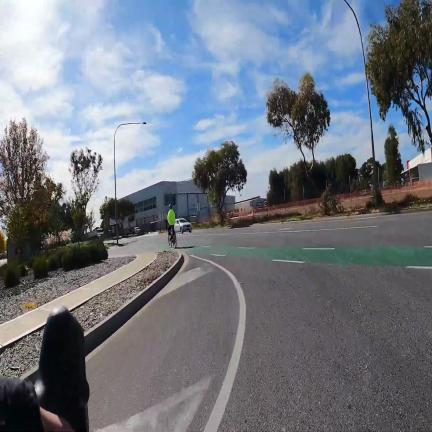Green_Bike_Lane: (189, 243, 432, 268)
